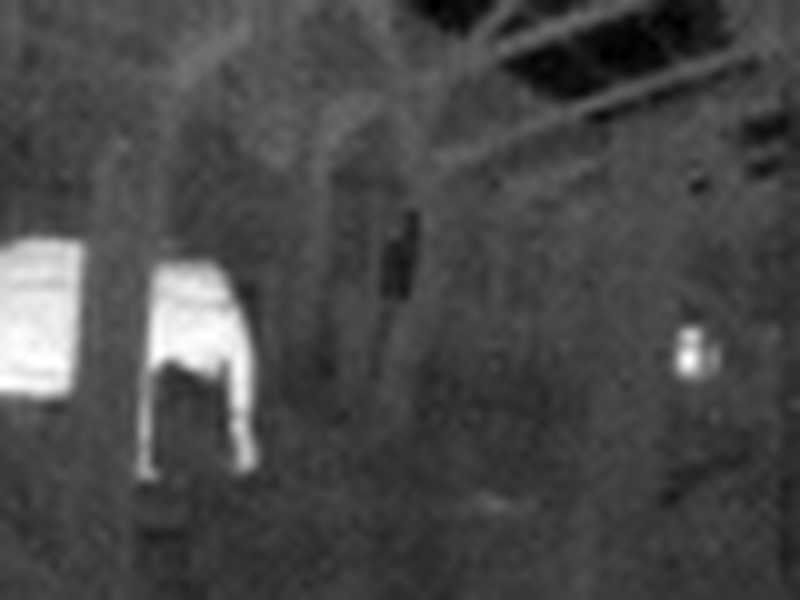elephant: (1, 225, 254, 496)
